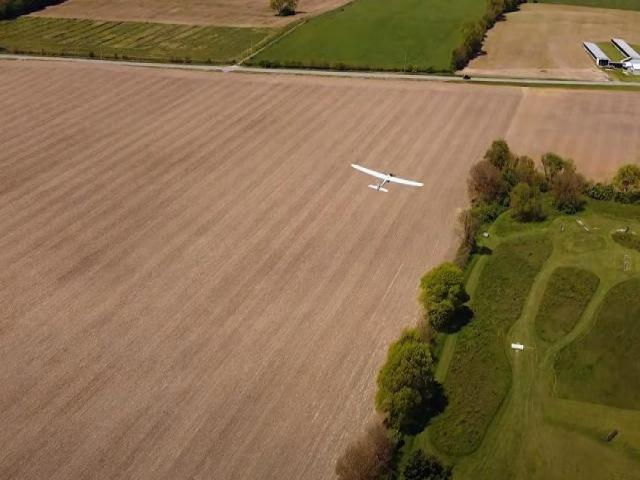iha: (351, 163, 422, 192)
